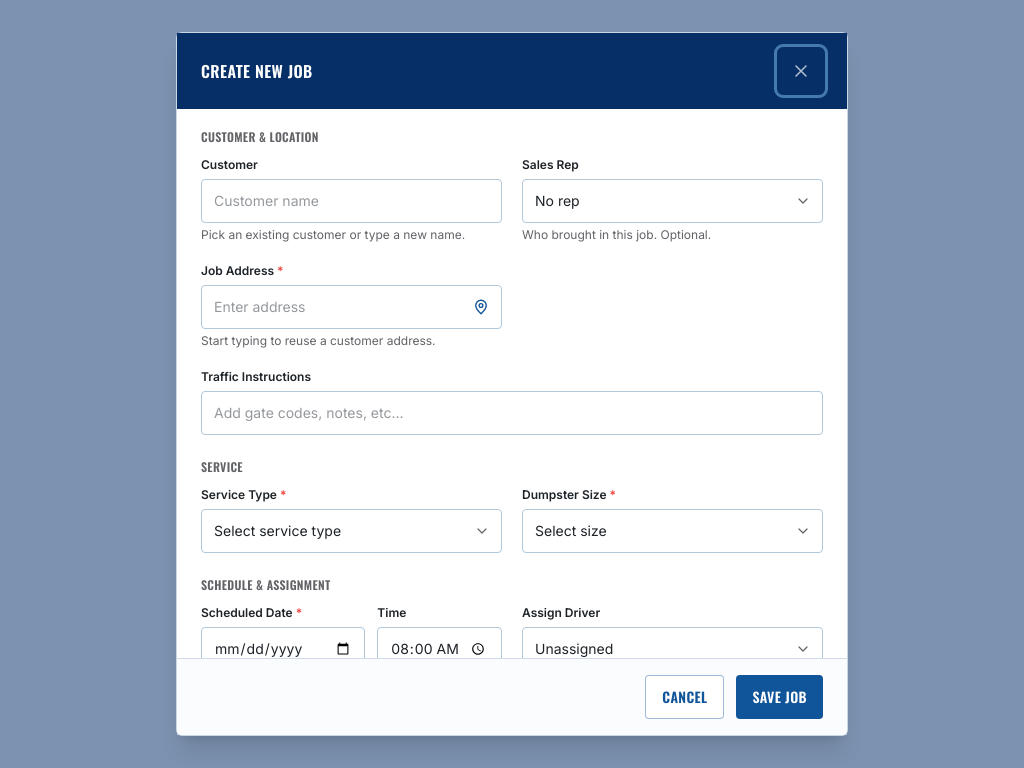
Test case: CreateJobModal — booking a customer who is not on the list › still refuses a job with no customer at all
Type "500 Sahara Ave" into the field with placeholder "Enter address".
click(352, 307); type("500 Sahara Ave")  # box [201,285,502,329]
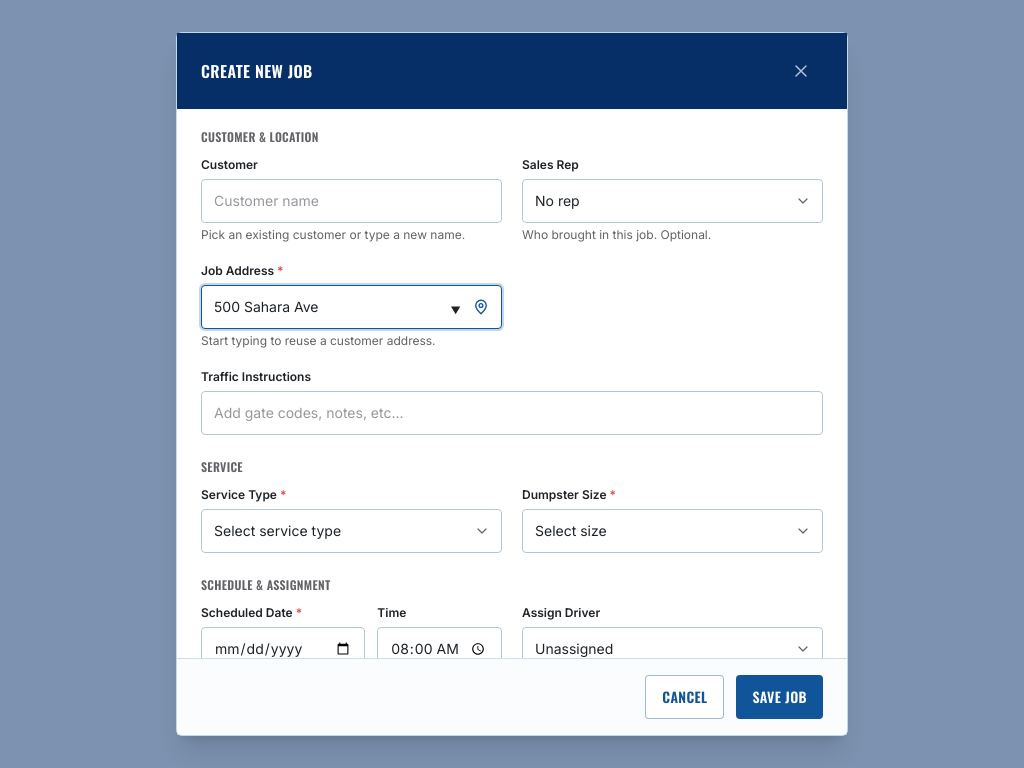
Select "Delivery" in the dropdown labelled "Service Type *" at (352, 531), box [201,509,502,553]
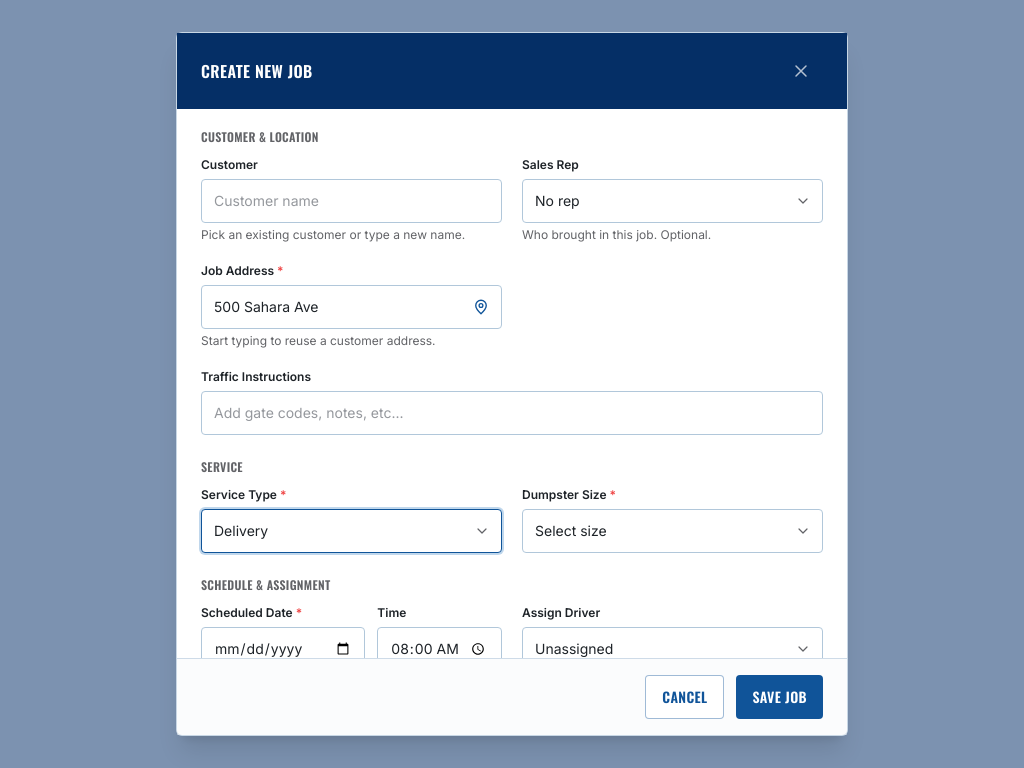
Select "20 Yard" in the dropdown labelled "Dumpster Size *" at (672, 531), box [522,509,823,553]
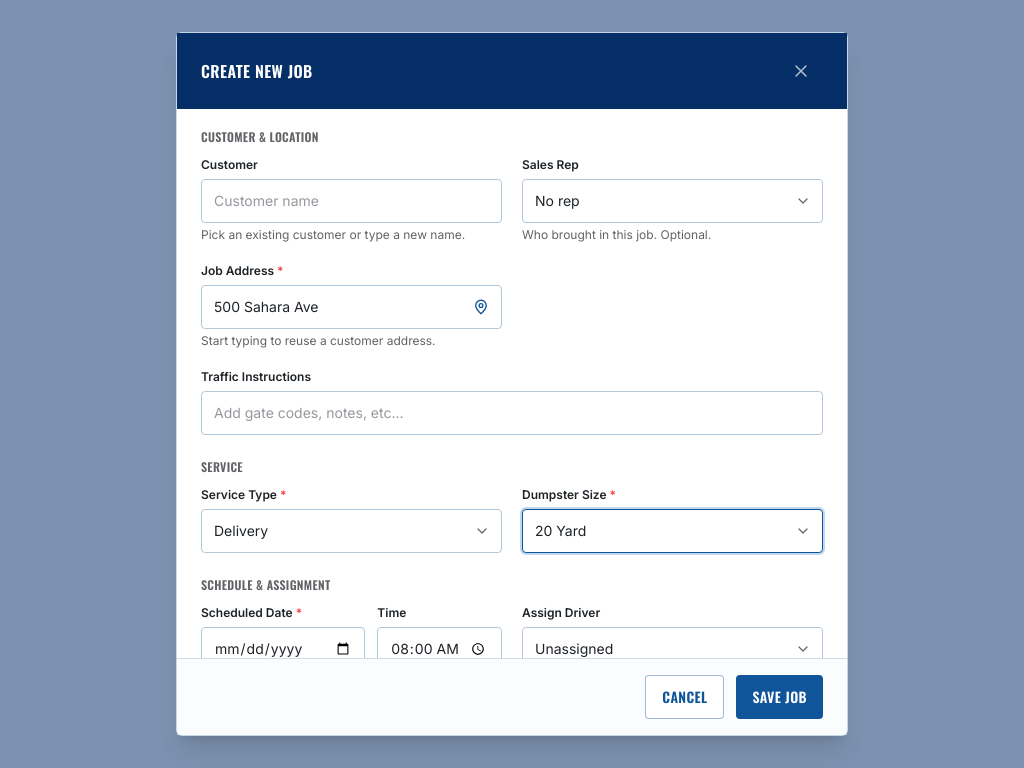
Type "2026-09-10" into the date field labelled "Scheduled Date *".
click(283, 649); type("2026-09-10")  # box [201,627,365,671]
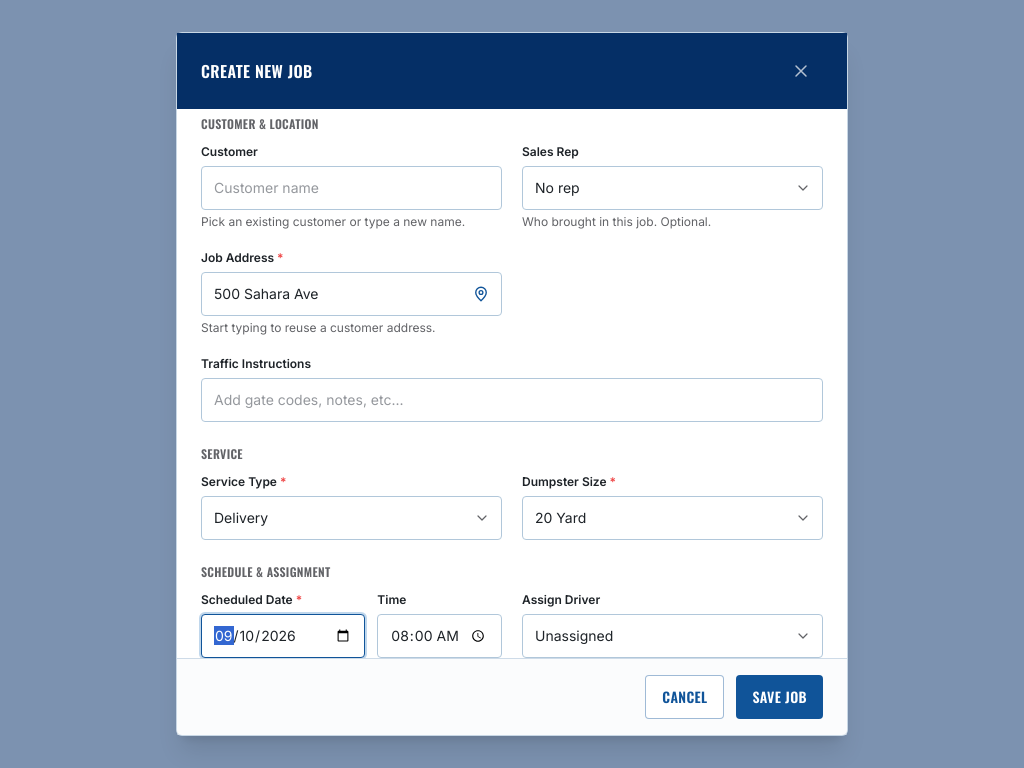
Click the button "Save Job".
click(780, 697)  # box [736,675,823,719]
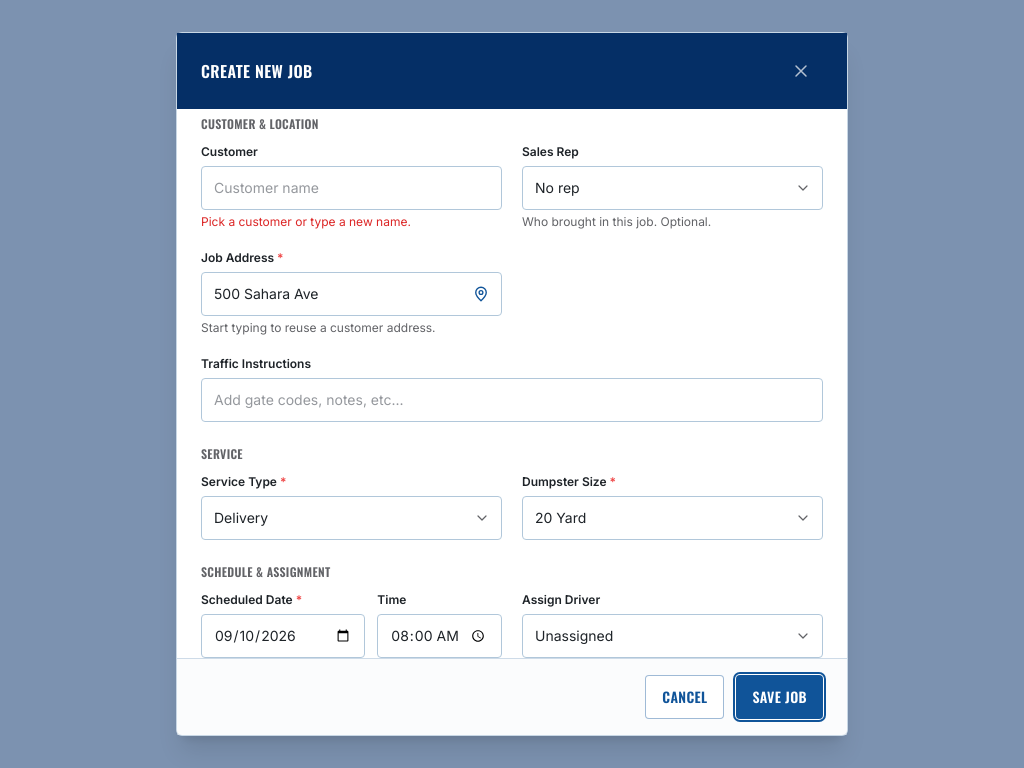
Check: the text "Pick a customer or type a new name." is shown, box [201,214,411,229]
